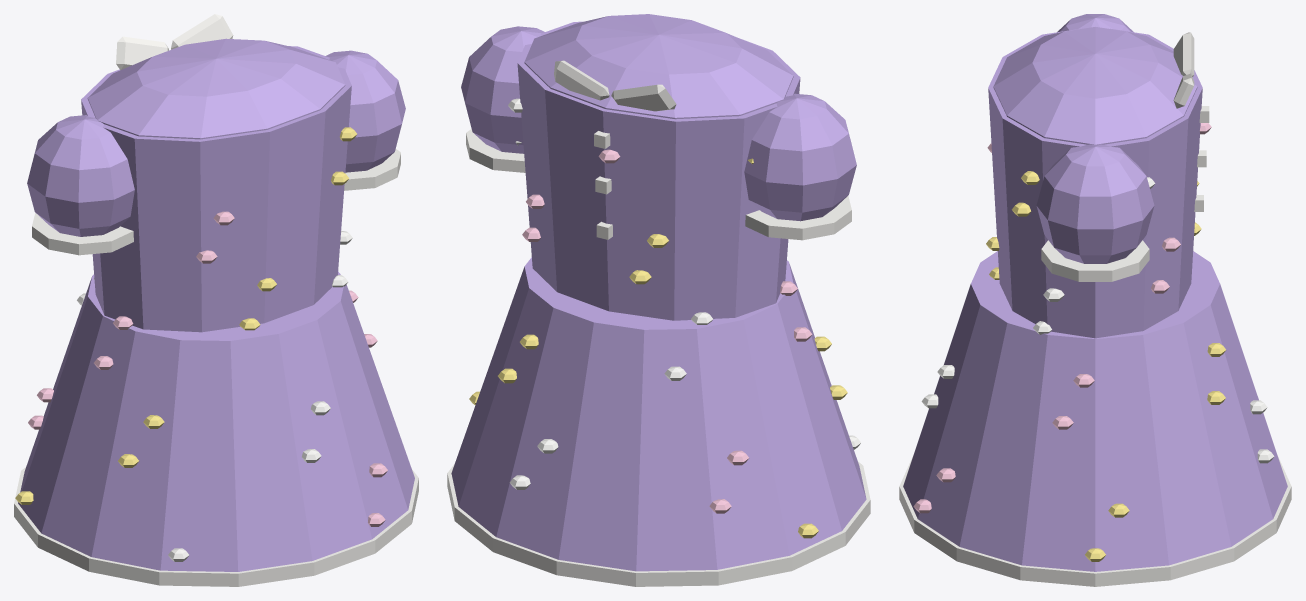
File: jacket_dress.glb
3 views of the same model, side by side, from view 1: azimuth 30°, elevation 25°; view 2: azimuth 150°, elevation 25°; view 3: azimuth 270°, elevation 25° (orthographic). The views are drawn at different scales.
Visible parts, largest first — view 1: Torso, ArmL, ArmR; view 2: Torso, ArmL, ArmR; view 3: Torso, ArmR, ArmL.
Boxes of the visible parts, bbox=[...] form: Torso: bbox=[14, 14, 418, 586]; ArmL: bbox=[27, 115, 134, 255]; ArmR: bbox=[325, 50, 405, 190]; Torso: bbox=[447, 14, 870, 586]; ArmL: bbox=[744, 93, 856, 240]; ArmR: bbox=[461, 26, 544, 172]; Torso: bbox=[899, 27, 1291, 586]; ArmR: bbox=[1036, 144, 1154, 281]; ArmL: bbox=[1057, 14, 1133, 32].
Bounding box in the file's own units: 0.8483 × 1 × 0.798.
